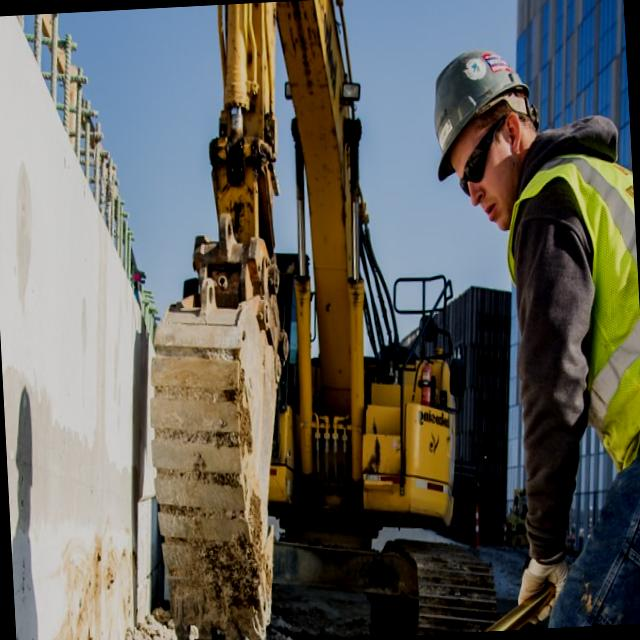goggles: (450, 111, 521, 198)
helmet: (426, 44, 533, 182)
vest: (499, 140, 640, 485)
